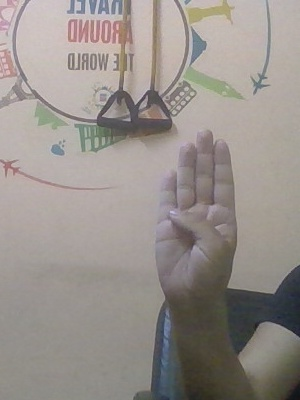B: (150, 120, 242, 319)
